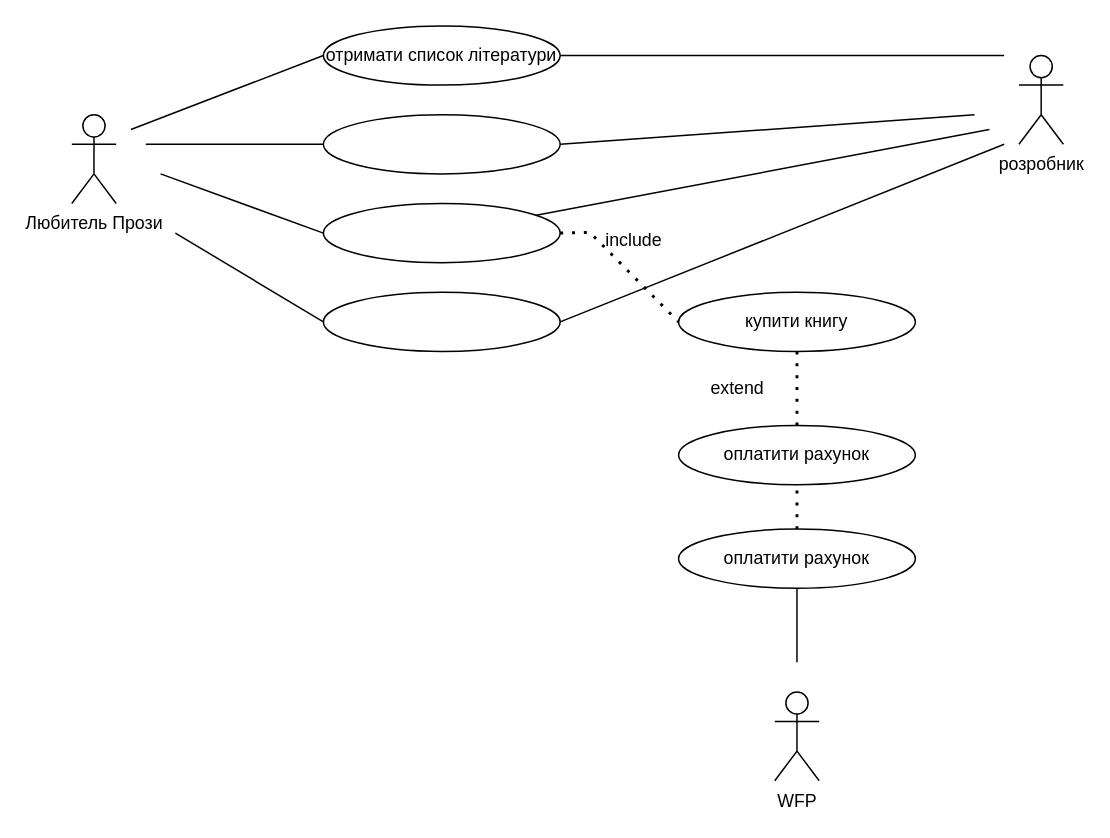
Some shapes in this 1110 by 838 pixel diagram are drawn without their labels. The shapes that lost their labels are listed below. From the top down, each one's centre as x and y in pixels, then its label:
At point (441, 143): "налаштувати зволожувач".
At point (441, 232): "отримати змогу читати за допомогою додатка".
At point (441, 321): "зберігати улюблені книги в окремій вкладці".
